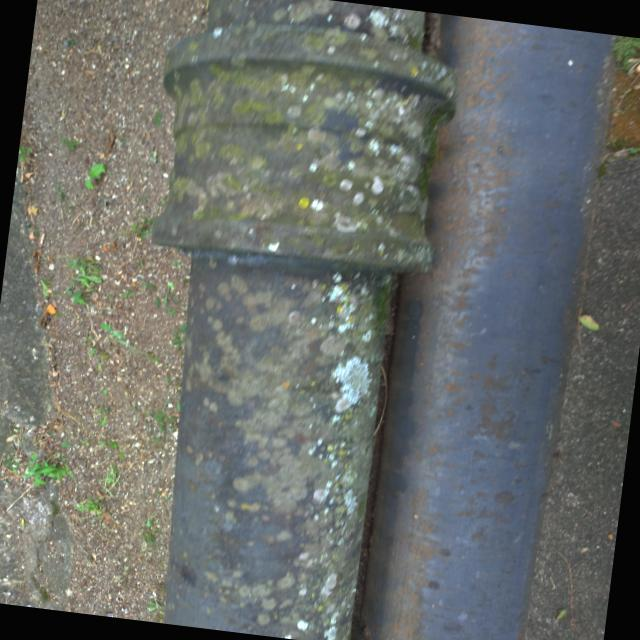gas: (97, 0, 466, 640), (351, 11, 618, 640)
